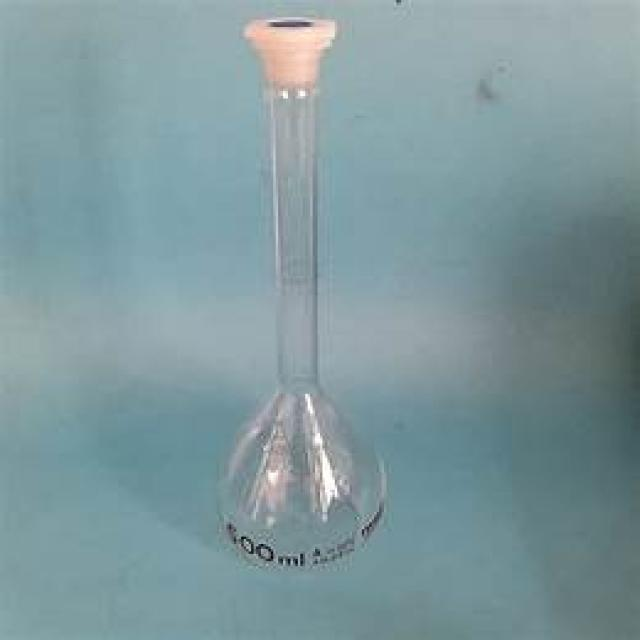Volumetric flask: (193, 23, 399, 563)
